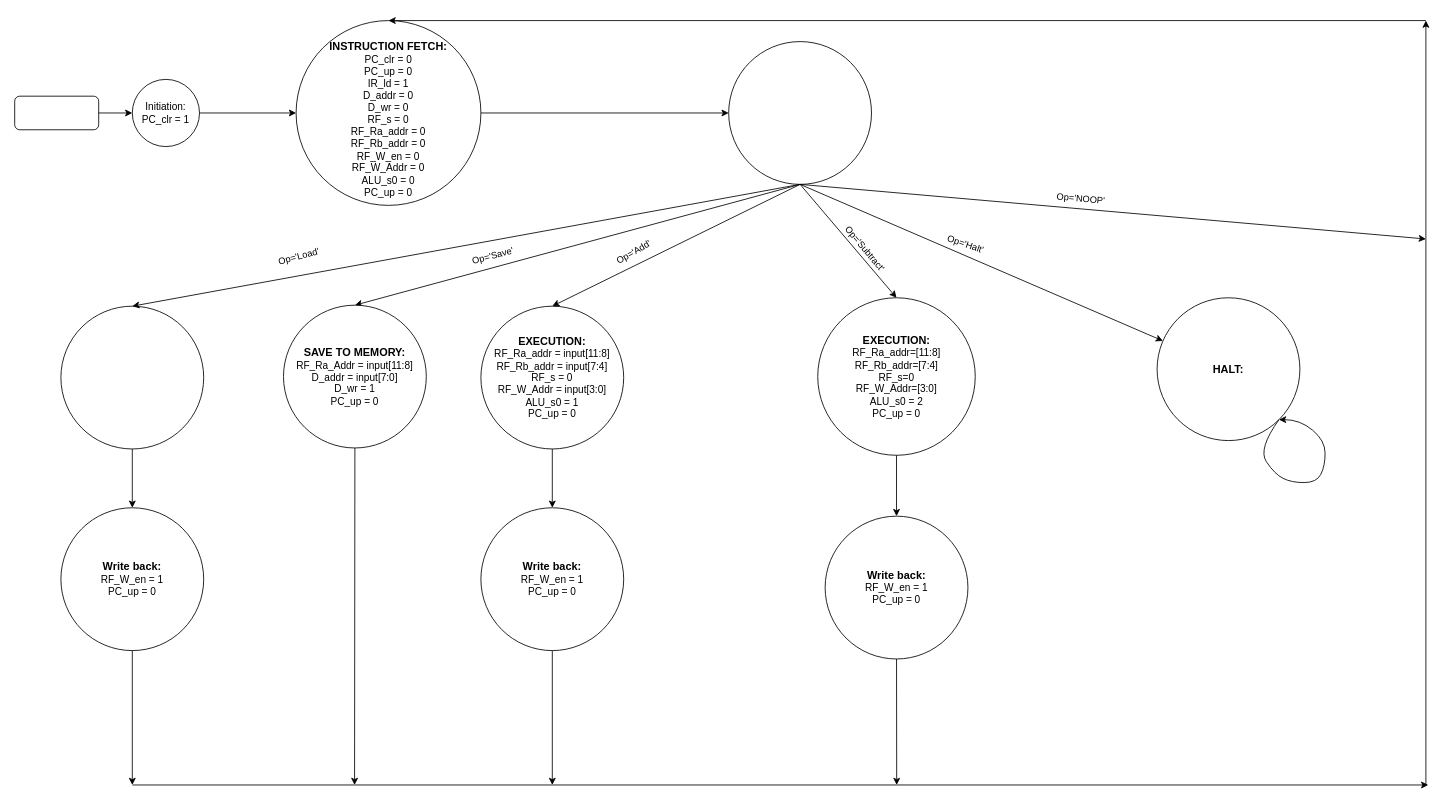
The diagram is 1450 pixels wide and 806 high, and some of its shapes have lost their labels. The shapes that lost their labels are listed below. From the top down, each one's box as (x1, y1, x2, y2) in pixels, then its label:
(14, 95, 99, 130): Reset
(728, 41, 872, 184): INSTRUCTION DECODE: PC_up = 1
(60, 305, 204, 449): READ MEMORY: D_addr = input[11:4] RF_s=1 RF_W_Addr = input[3:0]
